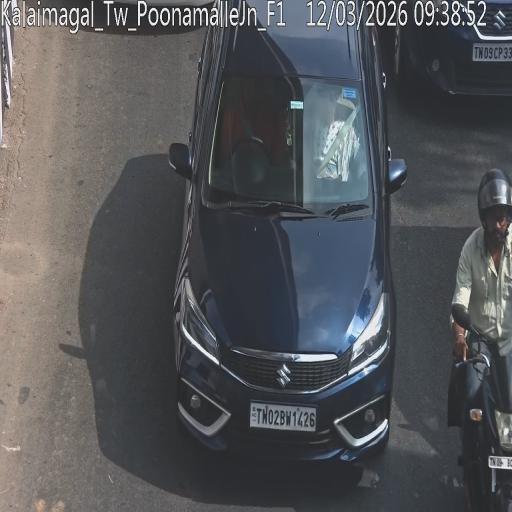person_with_seatbelt: (313, 110, 353, 172), (236, 98, 256, 143)
